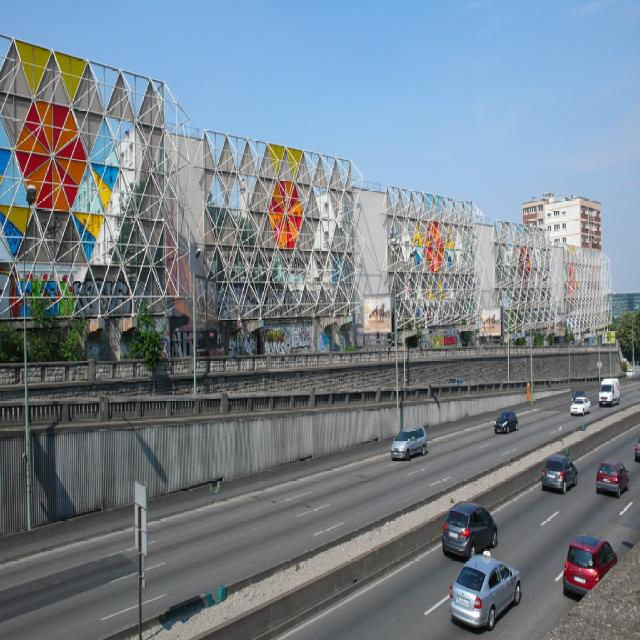other: (449, 558, 524, 630), (560, 534, 617, 596), (441, 502, 495, 558), (541, 458, 576, 493), (391, 426, 425, 458), (598, 459, 628, 492), (494, 411, 517, 435), (571, 398, 590, 413), (634, 439, 640, 467)
